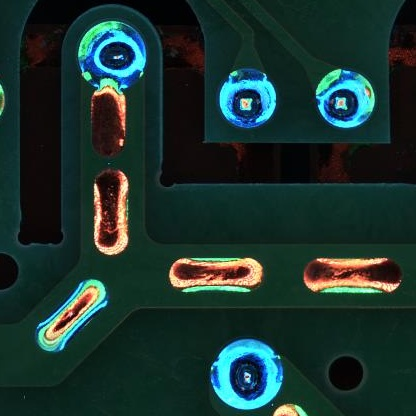spot: (210, 337, 282, 409), (74, 20, 148, 89), (315, 67, 376, 130), (217, 70, 277, 130)
